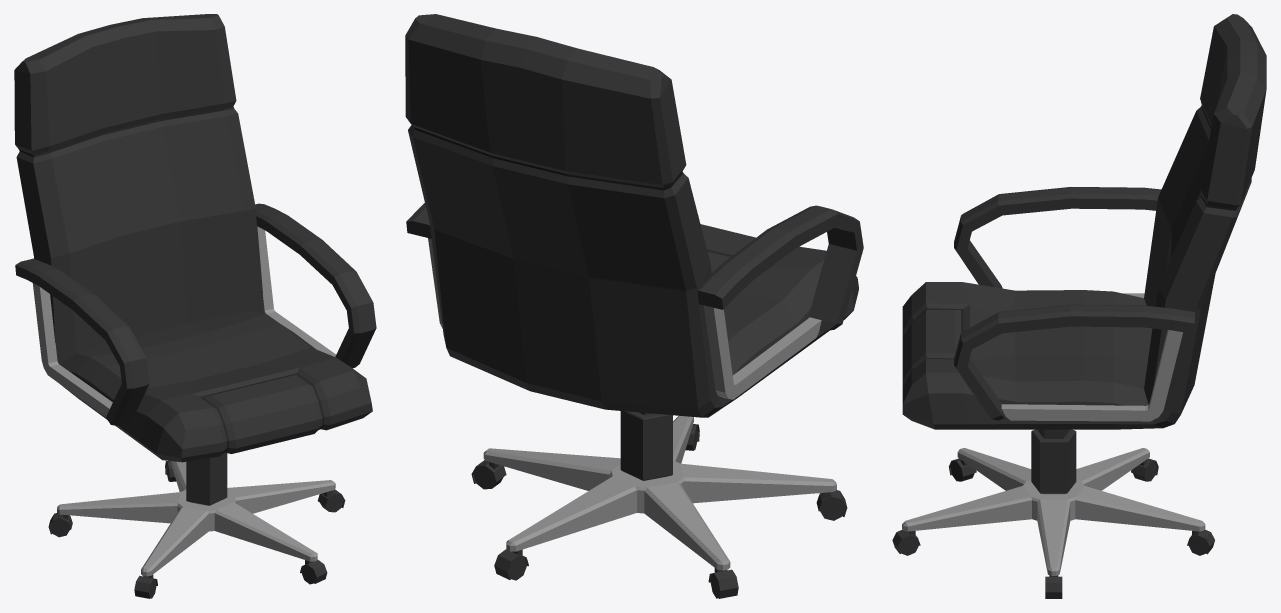
The model's file is Int_ChiefChair01.fbx.
3 views of the same model, side by side, from view 1: azimuth 30°, elevation 25°; view 2: azimuth 150°, elevation 25°; view 3: azimuth 270°, elevation 25° (orthographic). The views are drawn at different scales.
Visible parts, largest first — view 1: Int_ChiefChair01; view 2: Int_ChiefChair01; view 3: Int_ChiefChair01.
Boxes of the visible parts, x1,y1,x2,y2 form: Int_ChiefChair01: (14, 14, 376, 598); Int_ChiefChair01: (405, 14, 863, 598); Int_ChiefChair01: (892, 14, 1266, 598).
Size of what is drawn, in the model's own units: 87.82 by 103 by 145.
